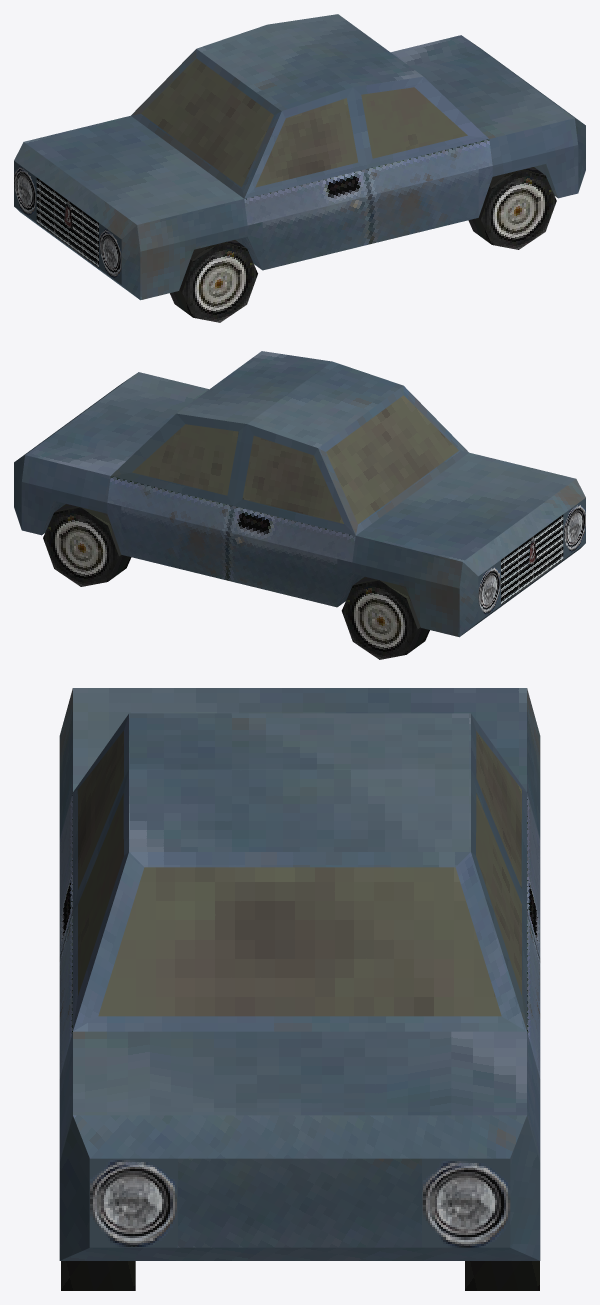
File: car_01.glb
3 views of the same model, one above another, from view 1: azimuth 30°, elevation 25°; view 2: azimuth 150°, elevation 25°; view 3: azimuth 270°, elevation 25° (orthographic). The views are drawn at different scales.
Parts seen in each view (by area): view 1: Cube, Cylinder; view 2: Cube, Cylinder; view 3: Cube, Cylinder.
Boxes of the visible parts, bbox=[...] form: Cube: bbox=[14, 14, 585, 300]; Cylinder: bbox=[170, 167, 556, 322]; Cube: bbox=[14, 351, 585, 637]; Cylinder: bbox=[43, 504, 429, 659]; Cube: bbox=[59, 688, 540, 1260]; Cylinder: bbox=[61, 1261, 539, 1290].
Bounding box in the file's own units: 5.45 × 2.09 × 2.44.
Materials: 1 (1 with a texture image).
